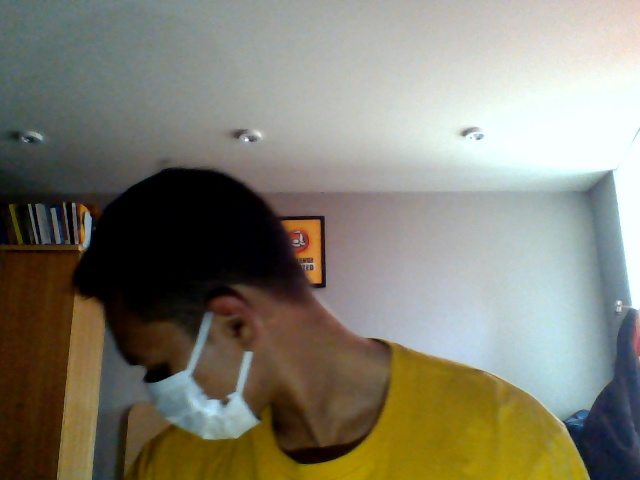mask: (140, 376, 266, 445)
